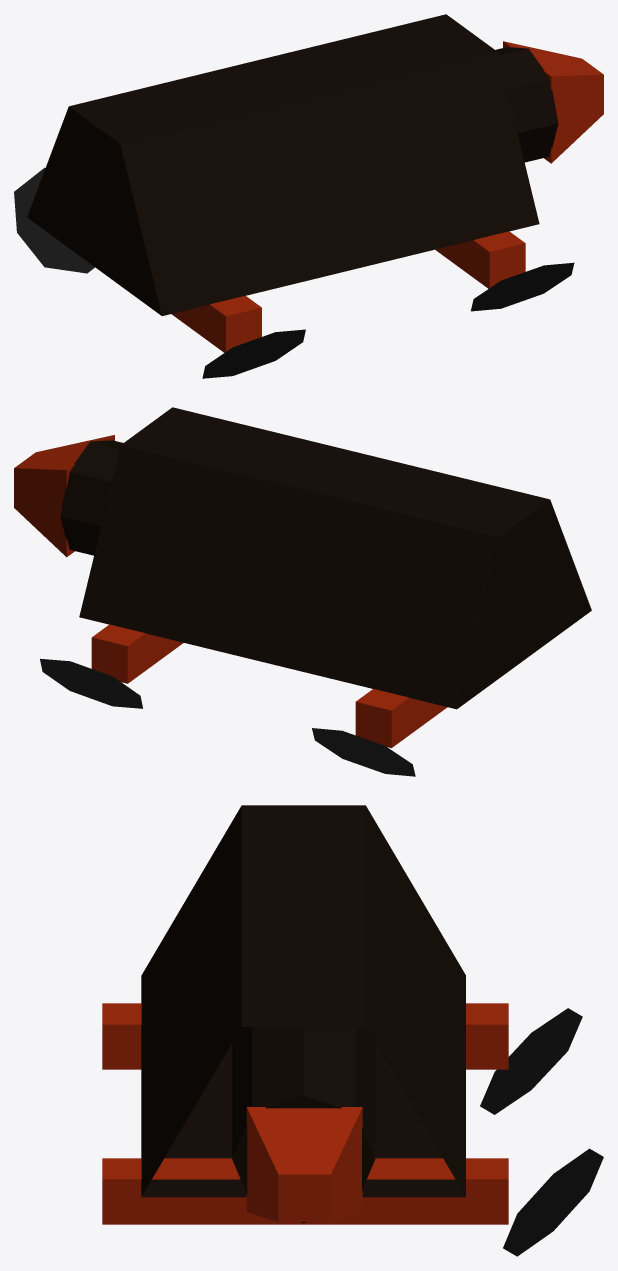
File: heavybatteringram1d.obj
3 renders of one model, top to bottom at view 1: azimuth 30°, elevation 25°; view 2: azimuth 150°, elevation 25°; view 3: azimuth 270°, elevation 25°, orthographic. The views are drawn at different scales.
Visible parts, largest first — view 1: Cube, Cube.003, Cube.002, Cube.001, Plane.001, Plane.002, Plane.003; view 2: Cube, Cube.003, Cube.002, Cube.001, Plane, Plane.001; view 3: Cube, Cube.001, Cube.003, Cube.002, Plane.001, Plane.
Part boxes in pixels (left/top/right/bottom): Cube: left=27, top=14, right=558, bottom=315; Cube.003: left=503, top=41, right=603, bottom=163; Cube.002: left=171, top=295, right=261, bottom=352; Cube.001: left=435, top=231, right=525, bottom=288; Plane.001: left=14, top=167, right=94, bottom=273; Plane.002: left=202, top=329, right=305, bottom=378; Plane.003: left=471, top=262, right=574, bottom=311; Cube: left=60, top=407, right=591, bottom=709; Cube.003: left=14, top=435, right=114, bottom=557; Cube.002: left=355, top=689, right=447, bottom=747; Cube.001: left=91, top=624, right=183, bottom=683; Plane: left=40, top=658, right=142, bottom=708; Plane.001: left=312, top=728, right=415, bottom=776; Cube: left=141, top=805, right=465, bottom=1222; Cube.001: left=102, top=1158, right=508, bottom=1224; Cube.003: left=246, top=1107, right=362, bottom=1221; Cube.002: left=102, top=1003, right=508, bottom=1069; Plane.001: left=480, top=1008, right=582, bottom=1114; Plane: left=503, top=1148, right=603, bottom=1256.
Bounding box in the file's own units: 10.17 × 4.25 × 8.66.
